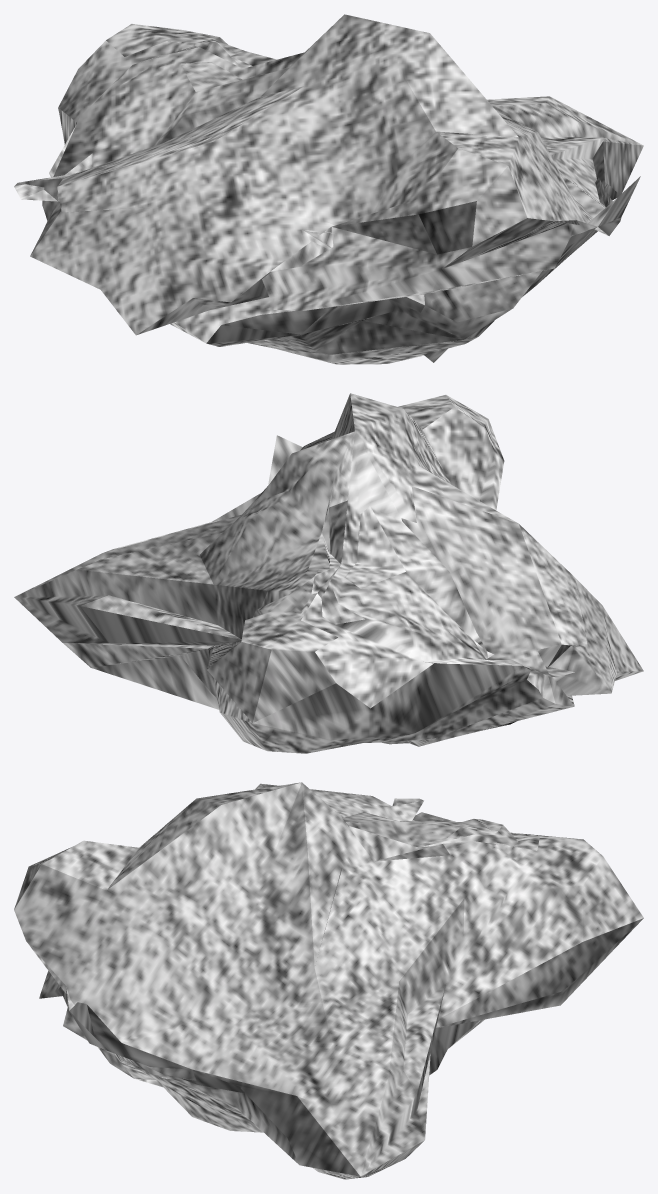
The model's file is Rock_Asset_16.fbx.
3 renders of one model, top to bottom at view 1: azimuth 30°, elevation 25°; view 2: azimuth 150°, elevation 25°; view 3: azimuth 270°, elevation 25°, orthographic. The views are drawn at different scales.
Parts seen in each view (by area): view 1: Rock_Asset; view 2: Rock_Asset; view 3: Rock_Asset.
Boxes of the visible parts, x1,y1,x2,y2 form: Rock_Asset: (14, 14, 643, 364); Rock_Asset: (14, 393, 643, 753); Rock_Asset: (14, 782, 643, 1179).
Size of the model in its own units: 2.35 by 1.18 by 2.06.
Materials: 1 (1 with a texture image).
